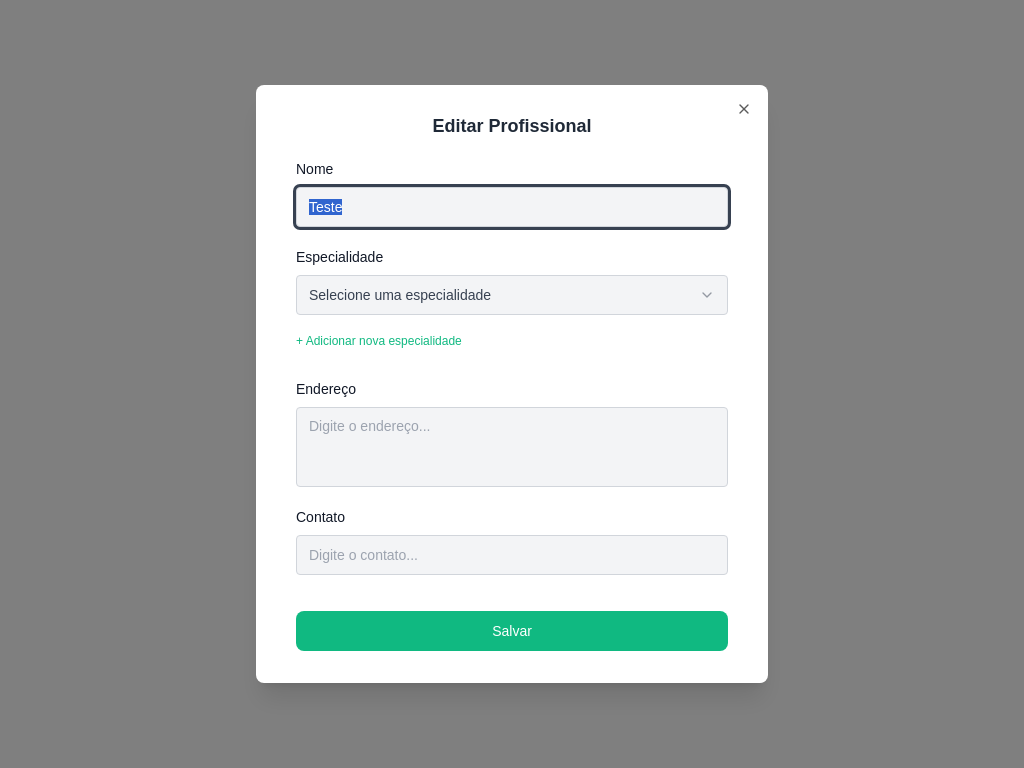
EditProfessionalModal - Integração › deve permitir acesso ao combobox após adicionar especialidade via modal
The image size is (1024, 768).
Expected: the dropdown is shown, [296,275,728,315]
// Clica no botão para adicionar nova especialidade
Click the button "+ Adicionar nova especialidade" at [379, 341], box [296,323,462,359]
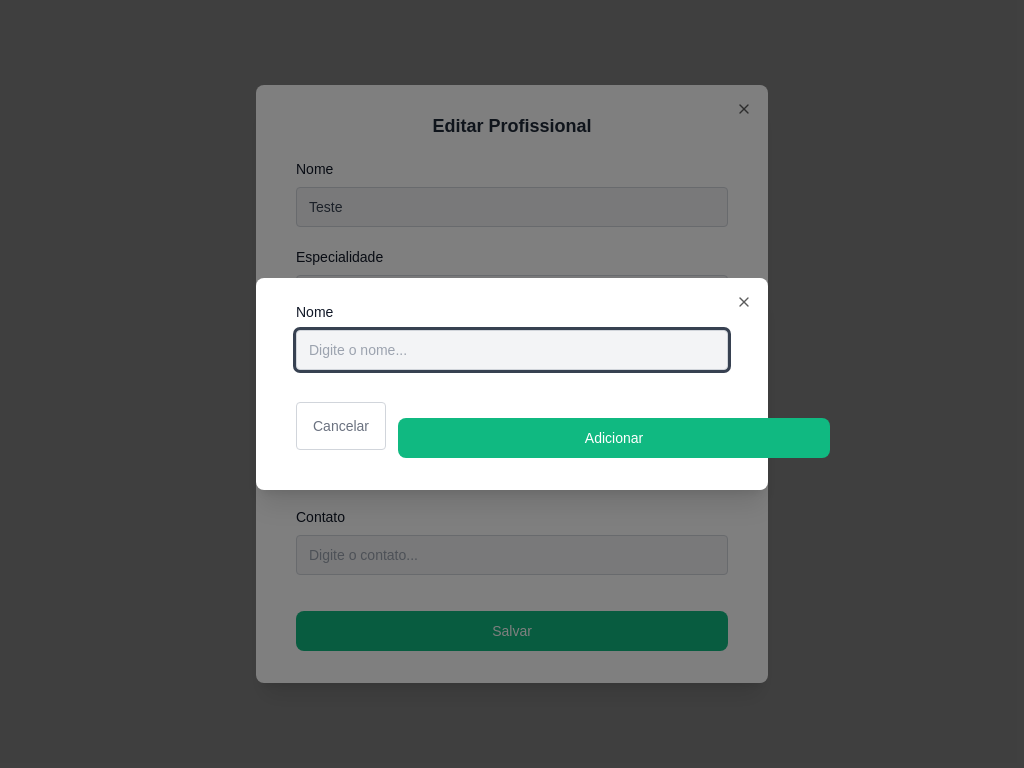
Now the text "Nome" is shown 2 times, box [296,161,333,177]; [296,304,333,320]
// Preenche o nome da especialidade
Type "Cardiologia" into the field with placeholder "Digite o nome..." at [512, 350], box [296,330,728,370]
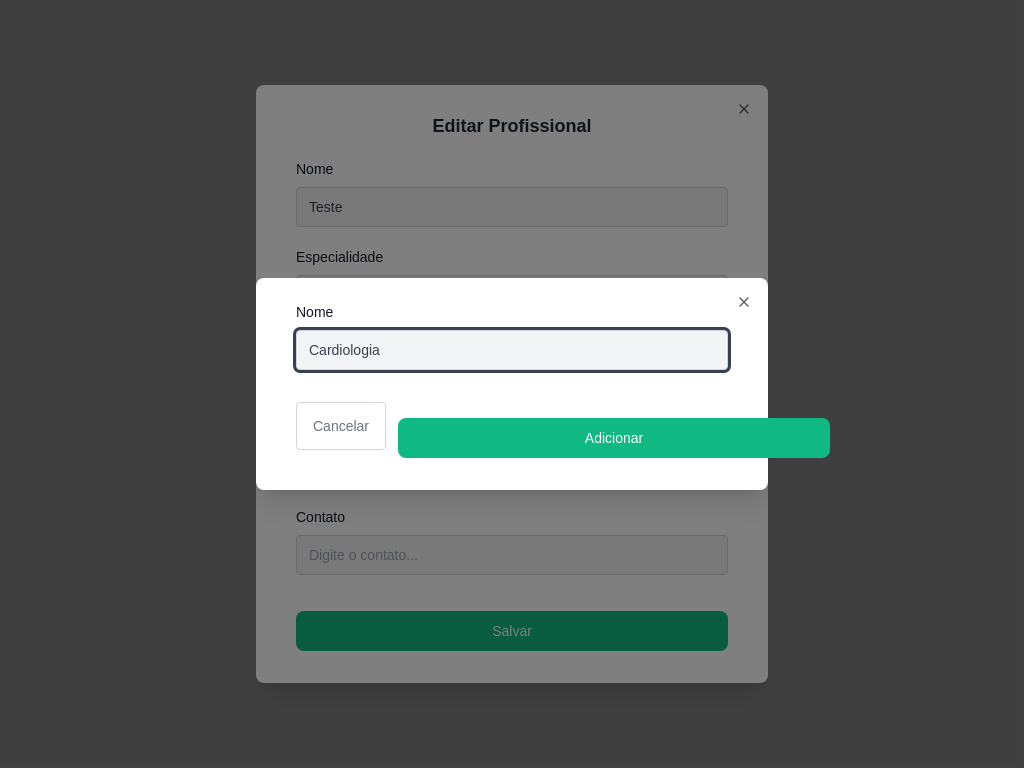
// Clica em adicionar
Click the button "Adicionar" at [614, 438], box [398,418,830,458]
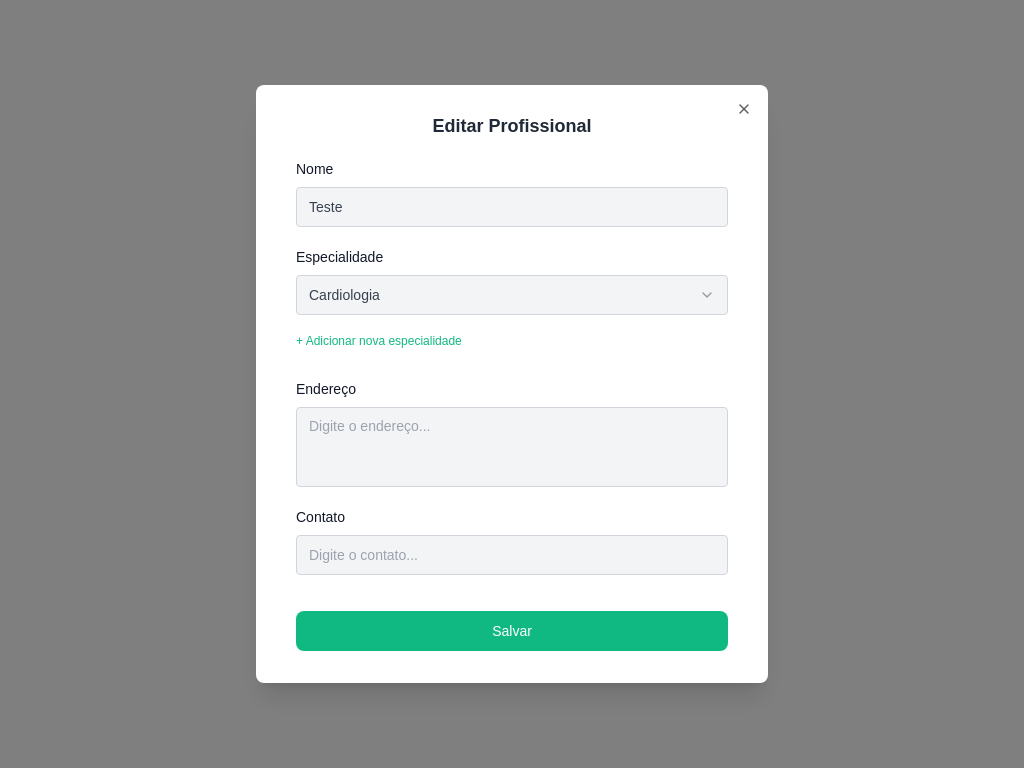
Now the text "Nome" is shown once, box [296,161,333,177]
// Tenta abrir o combobox novamente
Click the dropdown at [344, 295], box [296,275,728,315]
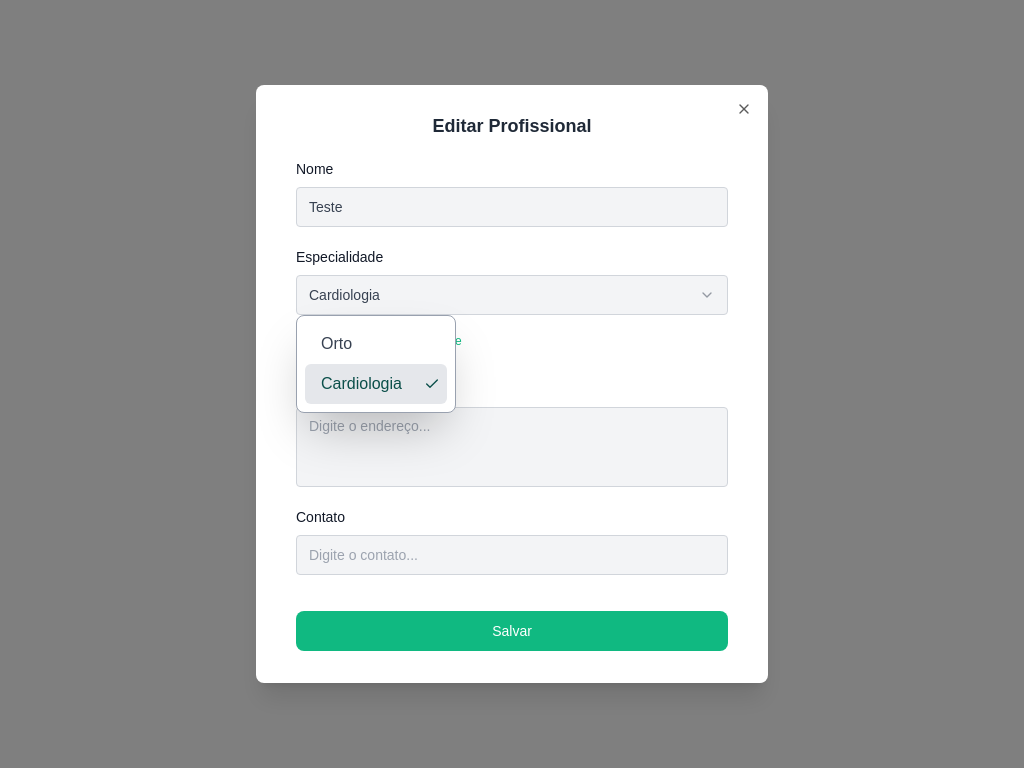
Now the text "Cardiologia" is shown 2 times, box [309,285,380,305]; [321,372,402,396]
Now the text "Orto" is shown, box [321,332,352,356]
